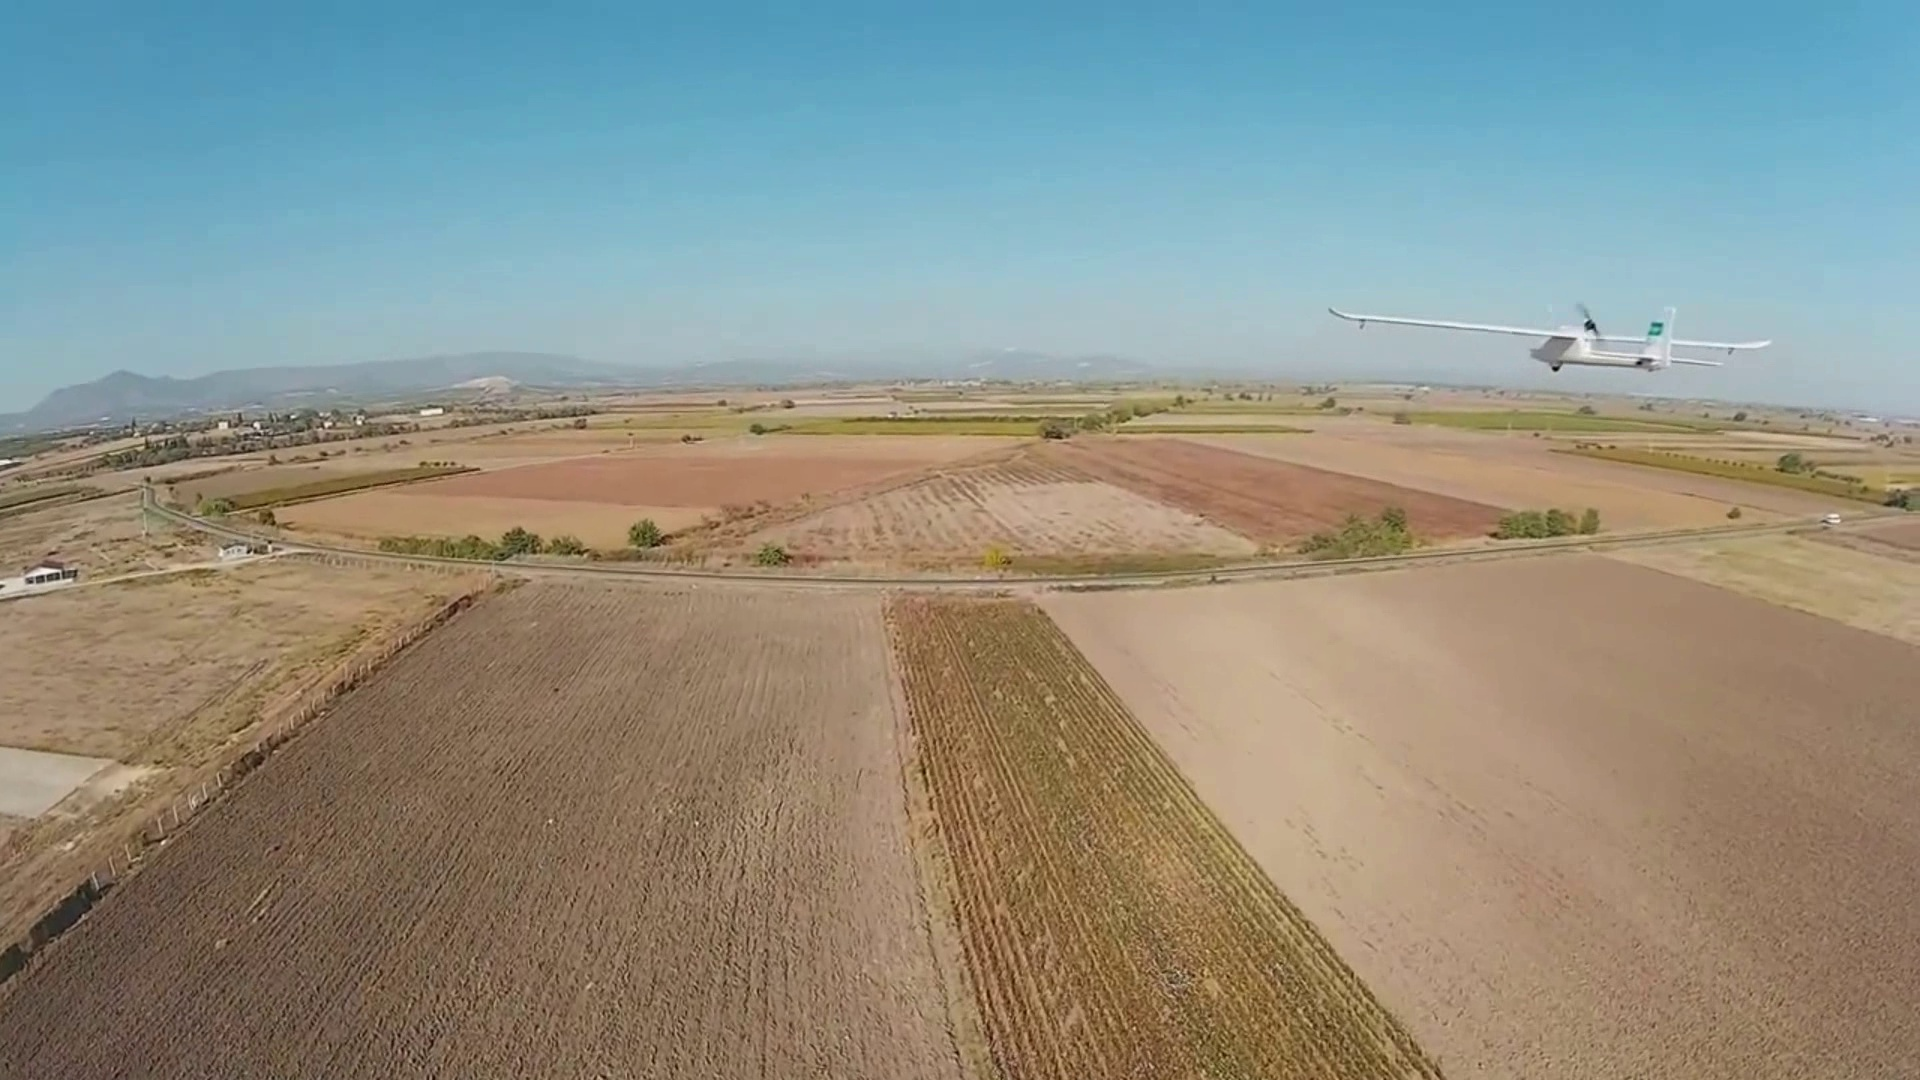airplane: (1325, 299, 1775, 375)
